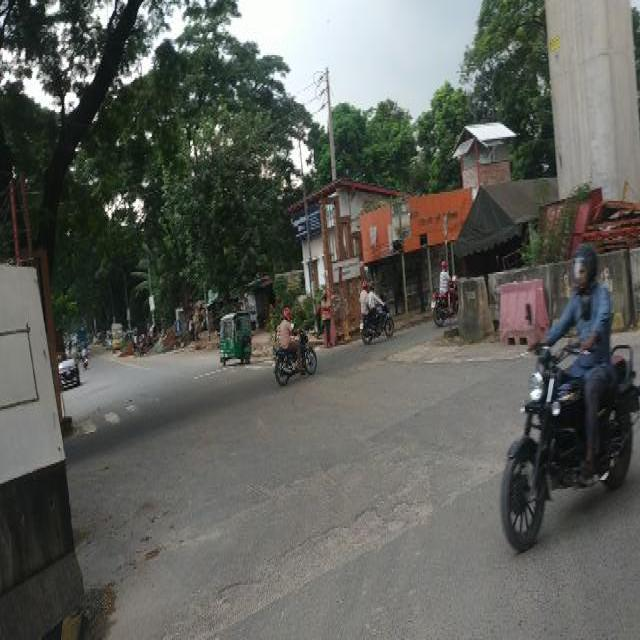motorbike: (497, 340, 639, 556), (272, 306, 318, 386), (357, 280, 395, 346), (430, 259, 460, 328)
three wheelers -CNG-: (216, 309, 254, 366)
